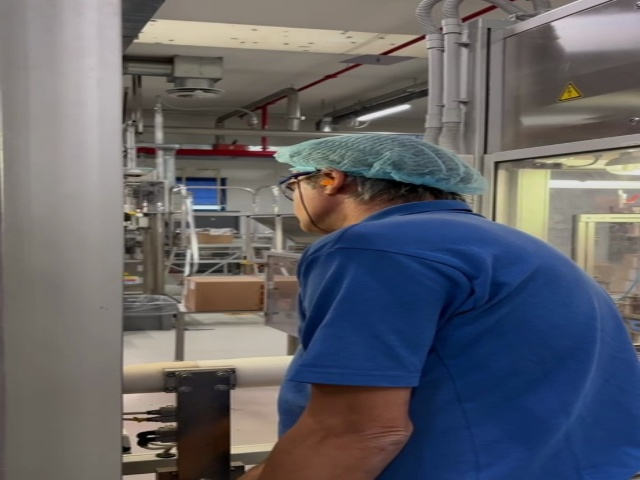Earplug: (318, 169, 344, 196)
Hairnet: (284, 132, 475, 190)
No_Helmet: (286, 134, 475, 188)
No_Vest: (303, 225, 640, 480)
Person: (279, 131, 640, 480)
Safety_Goggles: (279, 168, 321, 204)
